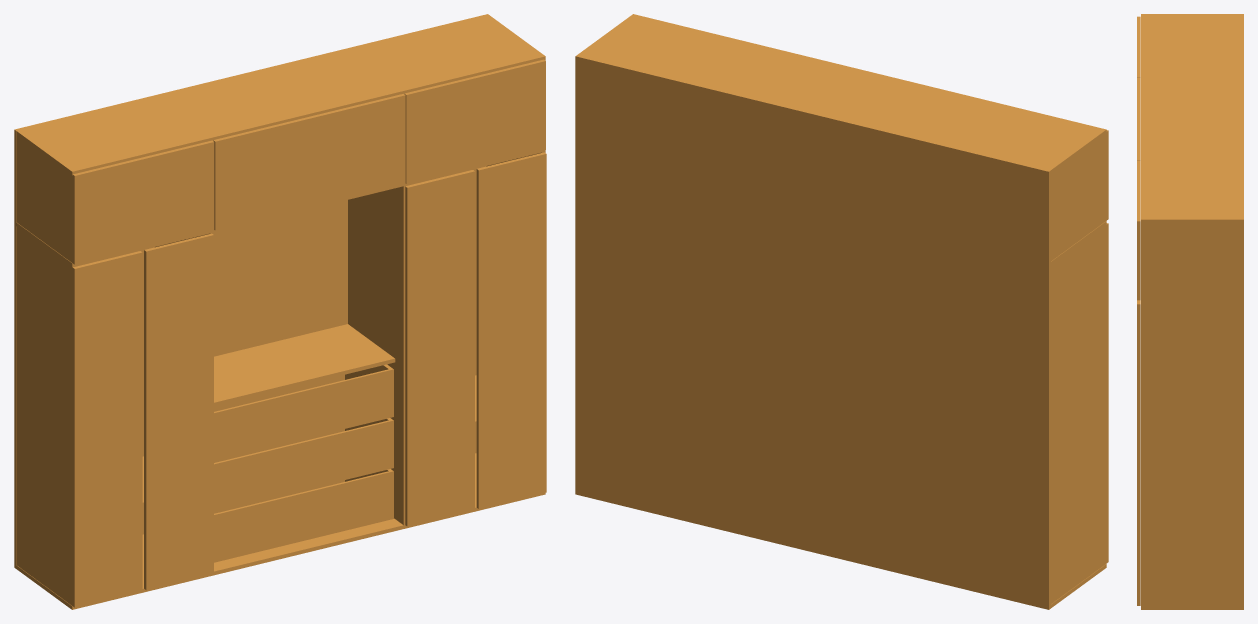
File: closet.fbx
3 renders of one model, left to right at view 1: azimuth 30°, elevation 25°; view 2: azimuth 150°, elevation 25°; view 3: azimuth 270°, elevation 25°, orthographic. The views are drawn at different scales.
Parts seen in each view (by area): view 1: Cube.009, Cube.006, Cube.001, Cube.013, Cube.010, Cube.012, Cube.015, Cube.004, Cube.019, Cube.017, Cube.018, Cube.000 (+3 smaller); view 2: Cube.004, Cube.006, Cube.001, Cube.014, Cube.003, Cube.010; view 3: Cube.003, Cube.006, Cube.013, Cube.004, Cube.018, Cube.019, Cube.017.
Boxes of the visible parts, x1,y1,x2,y2 form: Cube.009: (214, 364, 393, 562); Cube.006: (16, 15, 545, 175); Cube.001: (16, 129, 75, 609); Cube.013: (476, 152, 546, 508); Cube.010: (72, 251, 142, 607); Cube.012: (144, 233, 213, 590); Cube.015: (405, 170, 474, 526); Cube.004: (14, 14, 489, 568); Cube.019: (213, 94, 405, 230); Cube.017: (72, 140, 214, 264); Cube.018: (404, 59, 545, 183); Cube.000: (348, 185, 407, 528); Cube.004: (575, 55, 1050, 605); Cube.006: (578, 14, 1106, 173); Cube.001: (1045, 128, 1106, 603); Cube.014: (575, 491, 1106, 609); Cube.003: (575, 16, 629, 493); Cube.010: (1106, 223, 1108, 563); Cube.003: (1141, 219, 1243, 609); Cube.006: (1141, 14, 1243, 219); Cube.013: (1137, 300, 1140, 605); Cube.004: (1240, 14, 1243, 219); Cube.018: (1137, 160, 1140, 300); Cube.019: (1137, 77, 1140, 160); Cube.017: (1137, 16, 1140, 77).
Size of the model in its own units: 260 by 230 by 57.09.
